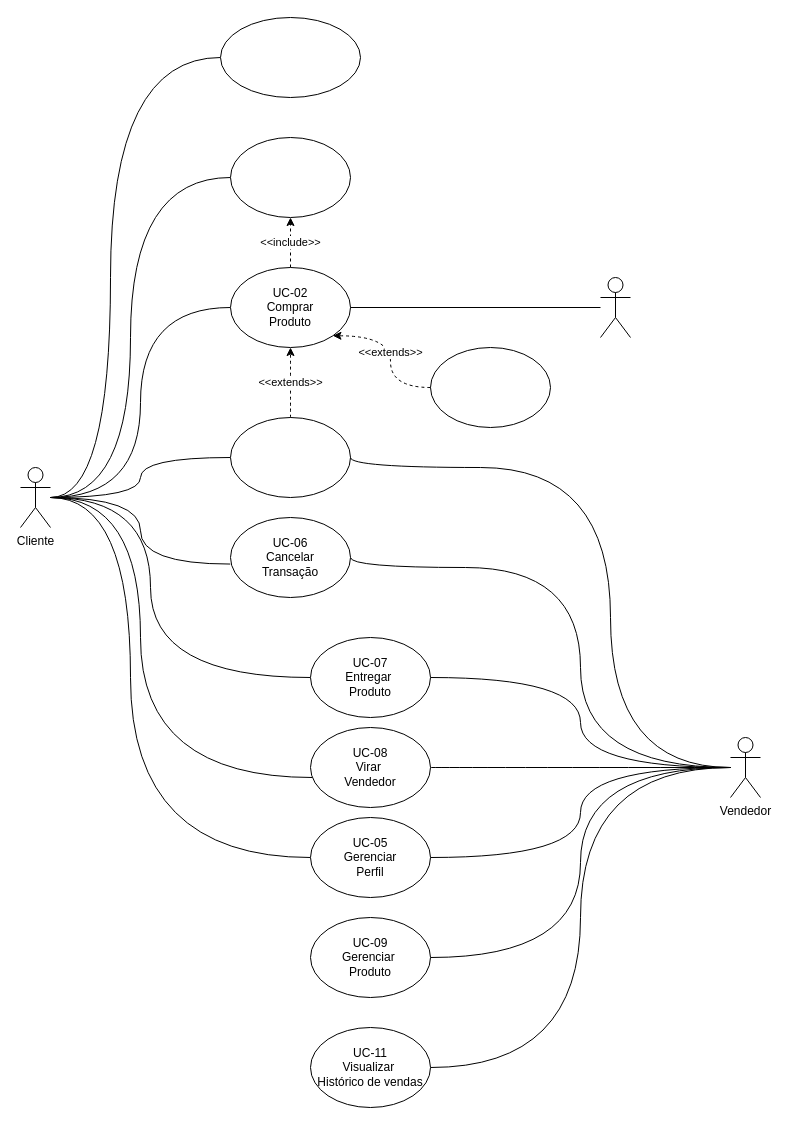
This 788x1125 diagram has some shape labels left out. Here are the shapes that lost their labels. From the top down, the centre of each, then its label:
At (290,57): "UC-10 Visualizar Histórico de Compras".
At (290,177): "UC-01 Gerenciar Carrinho".
At (615,307): "Gateway de Pagamento".
At (490,387): "UC-03 Avaliar Produto".
At (290,457): "UC-04 Abrir Chat".
